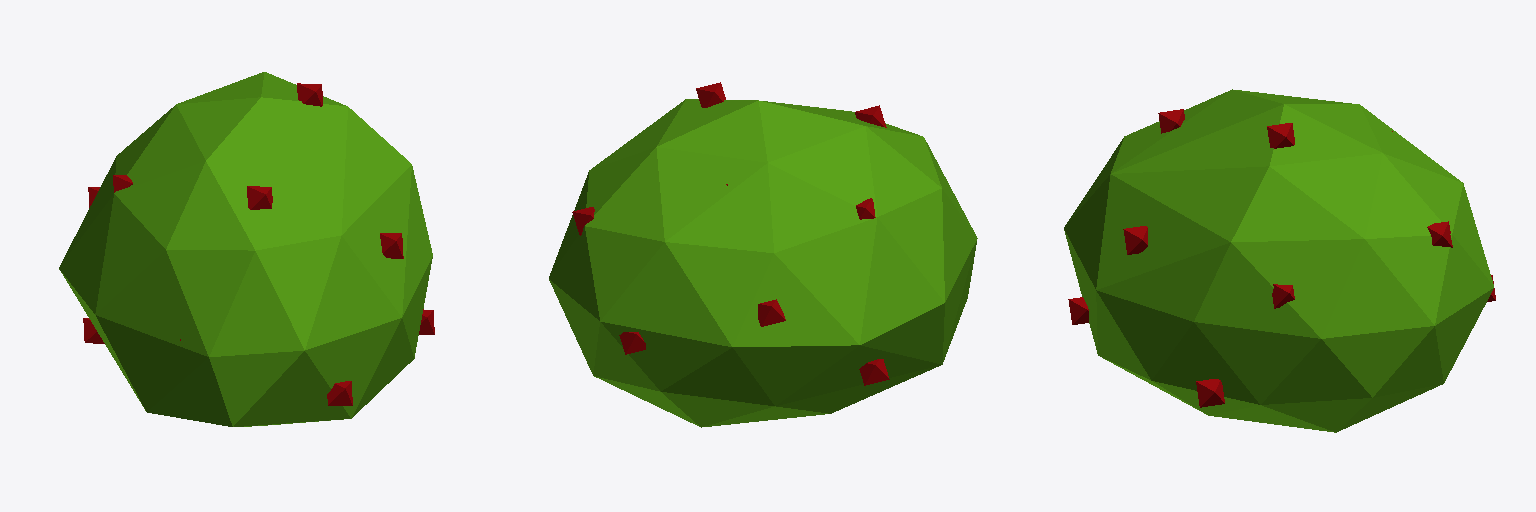
Rendered from lowpolybush.obj.
3 renders of one model, left to right at view 1: azimuth 30°, elevation 25°; view 2: azimuth 150°, elevation 25°; view 3: azimuth 270°, elevation 25°, orthographic.
Visible parts, largest first — view 1: Bush02_Icosphere.001; view 2: Bush02_Icosphere.001; view 3: Bush02_Icosphere.001.
Boxes of the visible parts, box(x1,y1,x2,y2) form: Bush02_Icosphere.001: box(59, 72, 434, 426); Bush02_Icosphere.001: box(549, 82, 977, 427); Bush02_Icosphere.001: box(1064, 89, 1495, 432).
Bounding box in the file's own units: 1.36 × 1.2 × 1.51.